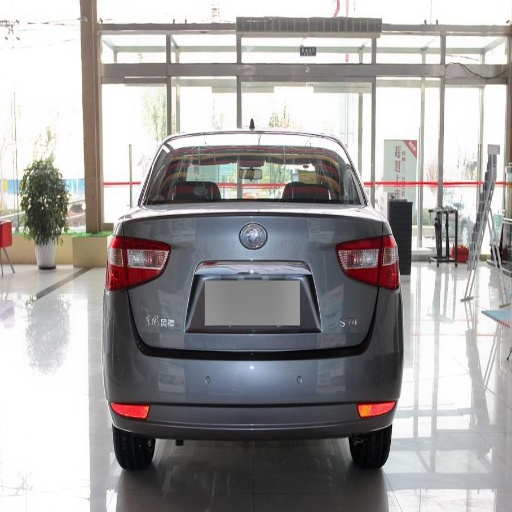back_bumper: (105, 288, 420, 442)
tailgate: (144, 201, 377, 348)
trunk: (126, 204, 336, 347), (353, 220, 383, 314)
